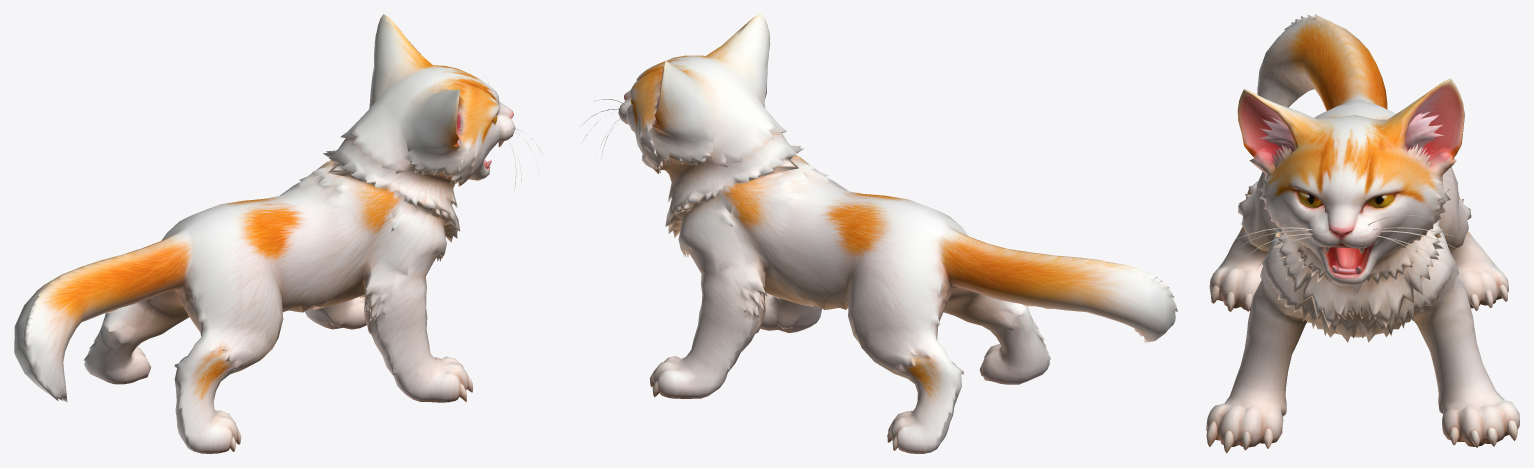
The model's file is kucing-fina.glb.
3 renders of one model, left to right at view 1: azimuth 30°, elevation 25°; view 2: azimuth 150°, elevation 25°; view 3: azimuth 270°, elevation 25°, orthographic. The views are drawn at different scales.
Visible parts, largest first — view 1: tripo_node_03798c23-3cc4-49d9-bde9-0b125998e6d4; view 2: tripo_node_03798c23-3cc4-49d9-bde9-0b125998e6d4; view 3: tripo_node_03798c23-3cc4-49d9-bde9-0b125998e6d4.
Boxes of the visible parts, box(x1,y1,x2,y2) form: tripo_node_03798c23-3cc4-49d9-bde9-0b125998e6d4: box(14, 14, 543, 453); tripo_node_03798c23-3cc4-49d9-bde9-0b125998e6d4: box(580, 14, 1177, 453); tripo_node_03798c23-3cc4-49d9-bde9-0b125998e6d4: box(1206, 14, 1519, 453).
Size of the model in its own units: 0.9995 by 0.5757 by 0.4321.
1 material, 1 textured.
